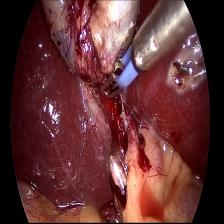Bipolar: (96, 40, 154, 108)
